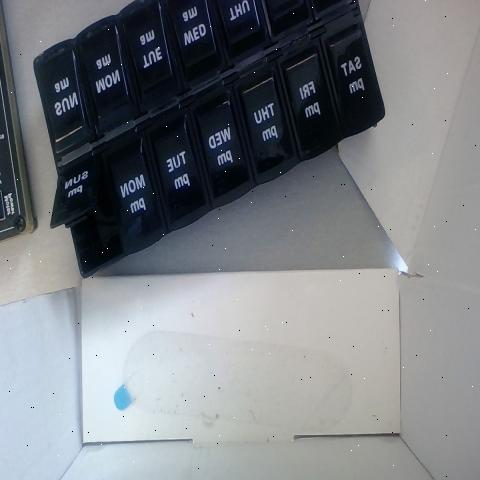FRI-pm: (294, 56, 325, 138)
MON-am: (83, 33, 128, 116)
MON-pm: (105, 142, 153, 242)
Open: (49, 151, 123, 275)
SAT-pm: (333, 38, 370, 118)
SUN-am: (47, 43, 79, 142)
THU-pm: (248, 74, 284, 158)
TUE-am: (135, 15, 167, 93)
TUE-pm: (159, 114, 193, 213)
WED-am: (171, 0, 210, 67)
WED-pm: (204, 97, 236, 184)
